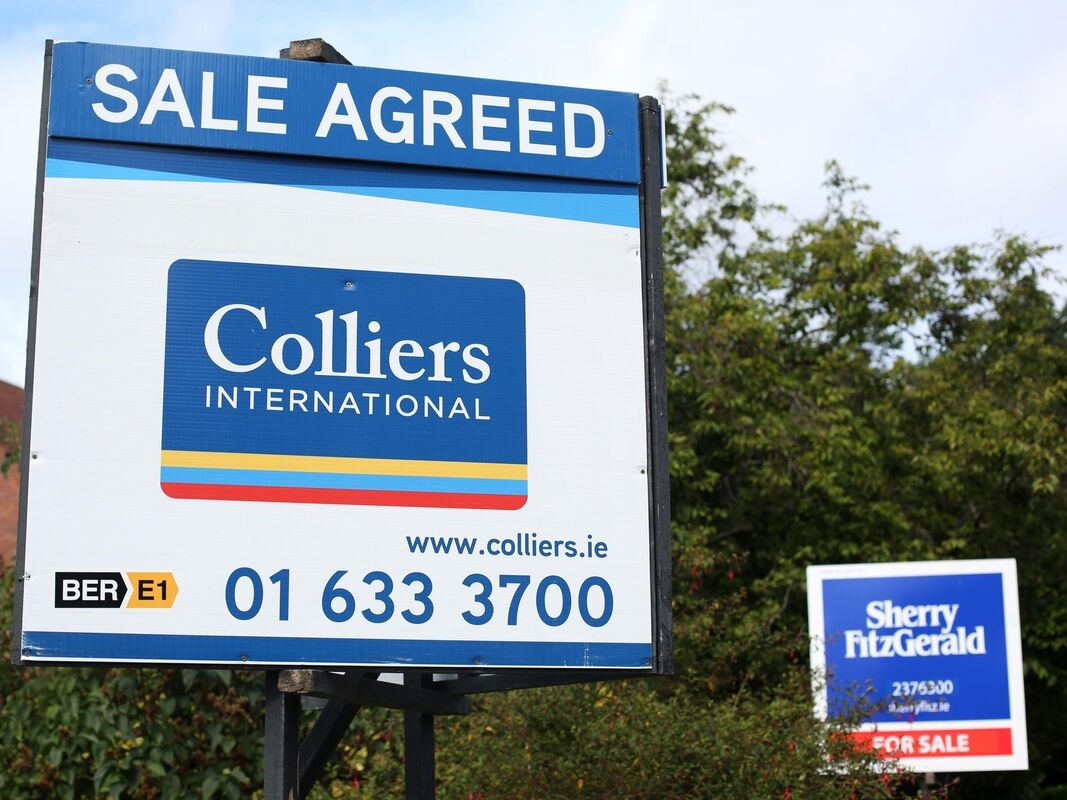property sign: (28, 28, 670, 708), (778, 539, 1044, 775)
